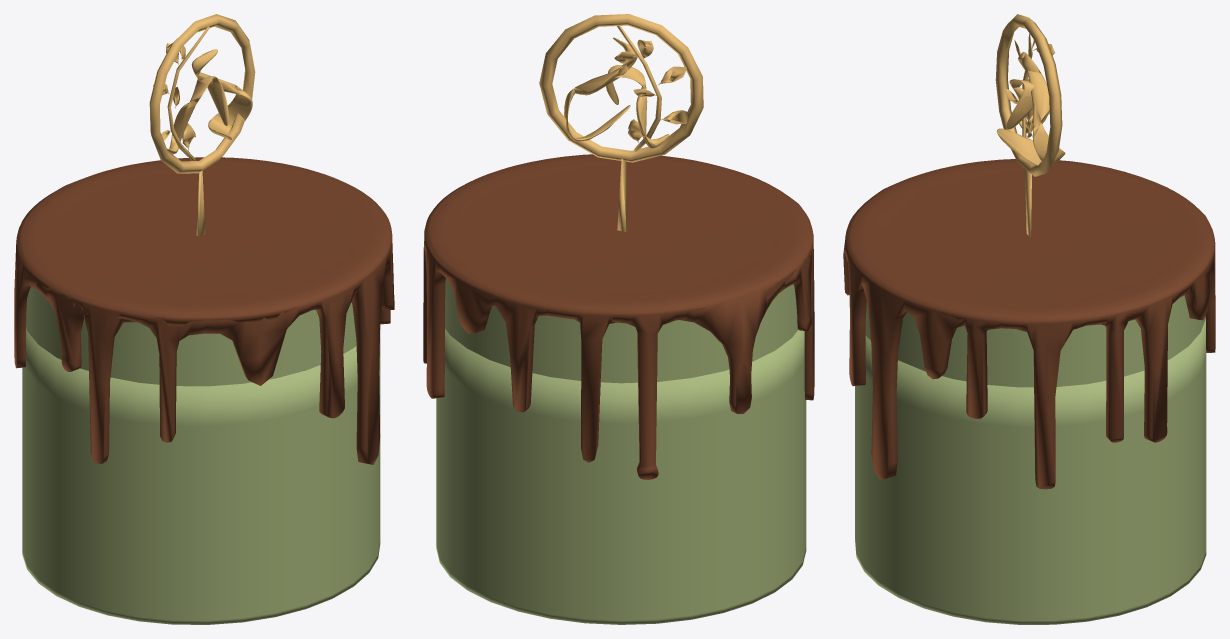
File: 1-tier-pistage-ganache-ring.glb
3 renders of one model, left to right at view 1: azimuth 30°, elevation 25°; view 2: azimuth 150°, elevation 25°; view 3: azimuth 270°, elevation 25°, orthographic.
Parts seen in each view (by area): view 1: Cylinder.019, tHE ICING, Cylinder.017; view 2: Cylinder.019, tHE ICING, Cylinder.017; view 3: Cylinder.019, tHE ICING, Cylinder.017.
Boxes of the visible parts, x1,y1,x2,y2 form: Cylinder.019: (22, 286, 380, 624); tHE ICING: (14, 157, 394, 464); Cylinder.017: (149, 14, 255, 237); Cylinder.019: (436, 278, 806, 624); tHE ICING: (423, 154, 814, 479); Cylinder.017: (539, 14, 703, 232); Cylinder.019: (855, 295, 1206, 624); tHE ICING: (843, 159, 1215, 489); Cylinder.017: (995, 14, 1065, 237).
Size of the model in its own units: 2.8 by 4.23 by 2.71.
